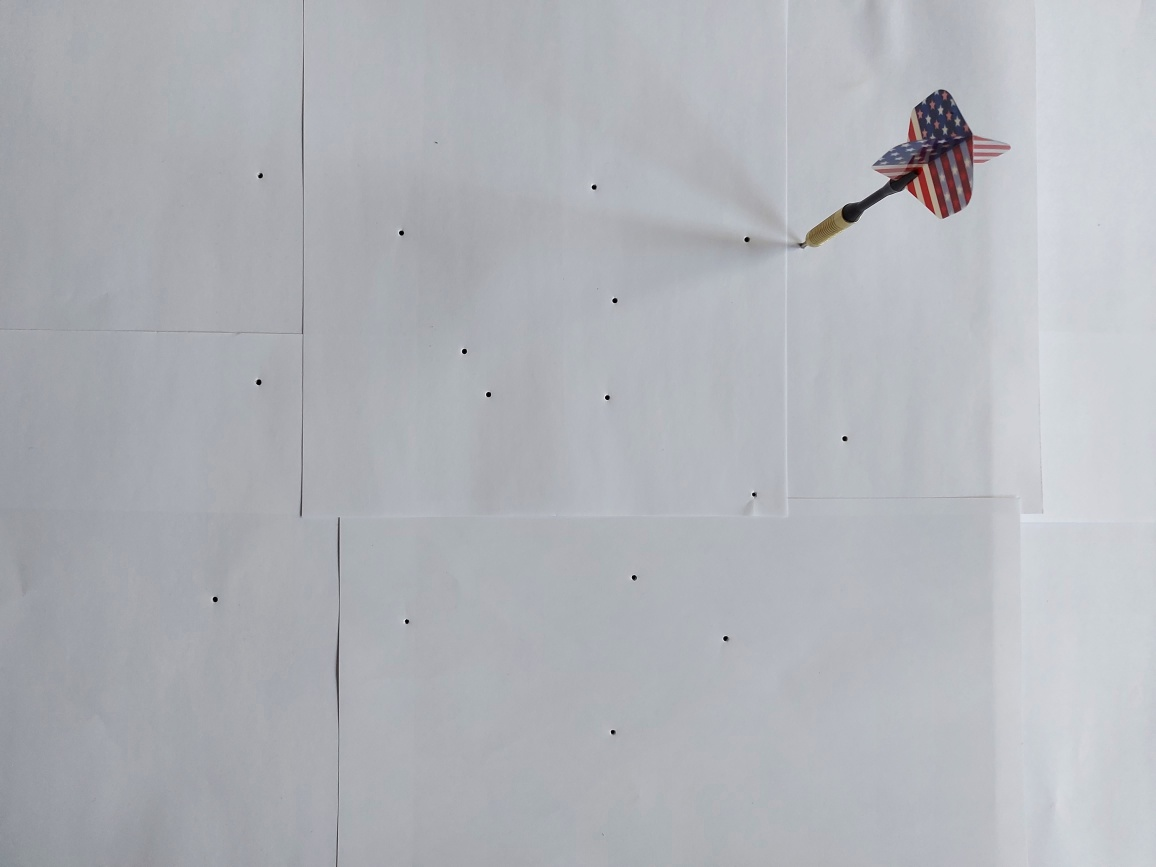Dart: (794, 77, 1019, 265)
